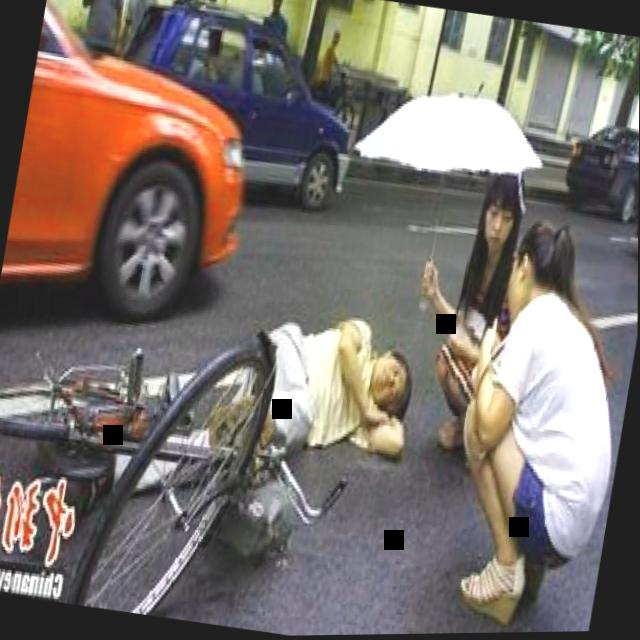Fall-Detected: (180, 275, 437, 483)
